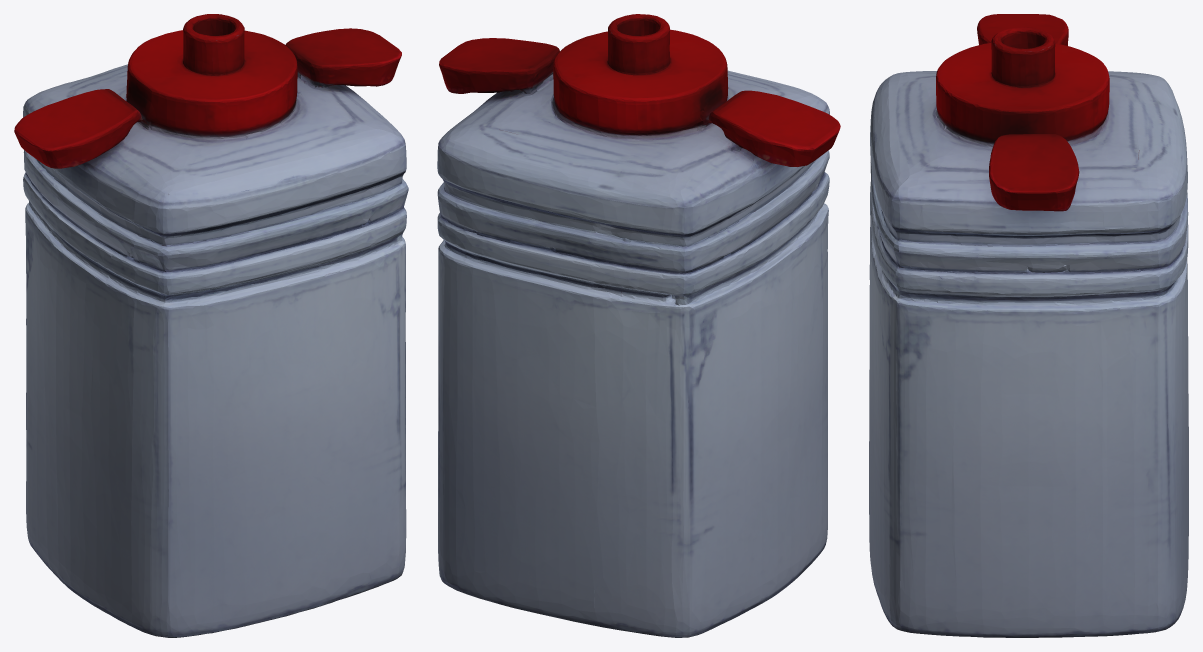
The model's file is Tank.glb.
3 renders of one model, left to right at view 1: azimuth 30°, elevation 25°; view 2: azimuth 150°, elevation 25°; view 3: azimuth 270°, elevation 25°, orthographic.
Parts seen in each view (by area): view 1: world; view 2: world; view 3: world.
Part boxes in pixels (x1=…): world: x1=14, y1=14, x2=408, y2=637; world: x1=437, y1=14, x2=840, y2=637; world: x1=869, y1=14, x2=1188, y2=637.
Bounding box in the file's own units: 0.727 × 0.9997 × 0.5456.
Materials: 1 (1 with a texture image).
